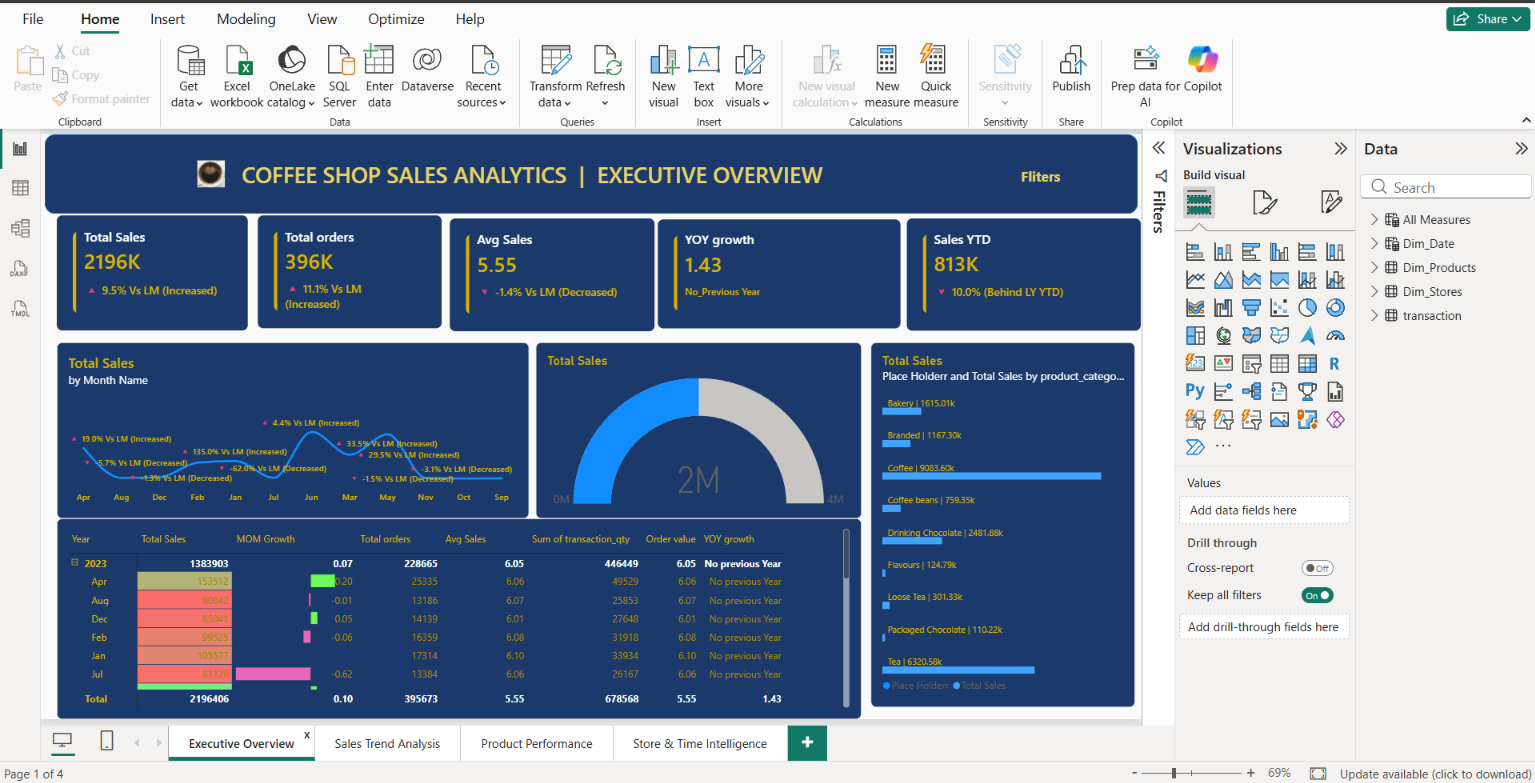

The dashboard page shown, as its layout file describes it:
{"tool":"powerbi","page":{"name":"Executive Overview","canvas":[1600,850],"ordinal":0},"visuals":[{"type":"cardVisual","fields":{"Data":["All Measures.Avg Sales"]},"box":[594.5,122.1,298,164.2],"z":0},{"type":"cardVisual","fields":{"Data":["All Measures.Sales YTD"]},"box":[1258.7,122.1,340.2,163.5],"z":1000},{"type":"shape","box":[5.8,0,1588.6,115.3],"z":2000},{"type":"textbox","box":[282.8,37,874.9,47.4],"z":3000},{"type":"actionButton","box":[1370.7,23.1,165.3,76.4],"z":4000},{"type":"cardVisual","fields":{"Data":["All Measures.Total Sales"]},"box":[23.3,117.7,277.6,167.2],"z":11000},{"type":"cardVisual","fields":{"Data":["All Measures.Total orders"]},"box":[315.4,117.7,267.4,164.2],"z":12000},{"type":"lineChart","fields":{"Category":["Dim_Date.Month Name"],"Y":["All Measures.Total Sales"]},"box":[23.3,302.3,686,255.8],"z":13000},{"type":"clusteredBarChart","title":"Total Sales","fields":{"Category":["Dim_Products.product_category"],"Y":["All Measures.Place Holderr","All Measures.Total Sales"]},"box":[1206.1,302.2,384,530],"z":14000},{"type":"pivotTable","fields":{"Rows":["Dim_Date.Date.Variation.Date Hierarchy.Year","Dim_Date.Month Name"],"Values":["All Measures.Total Sales","All Measures.MOM Growth","All Measures.Total orders","All Measures.Avg Sales","Sum(transaction.transaction_qty)","All Measures.Order value","All Measures.YOY growth"]},"box":[23.4,557.8,1169.6,292],"z":15000},{"type":"image","box":[210.3,38,73,39.4],"z":15001},{"type":"gauge","fields":{"Y":["All Measures.Total Sales"]},"box":[719.5,302.3,473.8,255.8],"z":15002},{"type":"cardVisual","fields":{"Data":["All Measures.YOY growth"]},"box":[896.8,123.5,353.2,158.4],"z":15003}]}

Visuals, with their boxes on the page's 1600x850 design canvas (x1, y1, x2, y2). These are canvas units, not pixel positions in the 1535x783 screenshot, which may show the page scaled, cropped or inside an application window:
cardVisual - All Measures.Avg Sales: (594, 122, 892, 286)
cardVisual - All Measures.Sales YTD: (1259, 122, 1599, 286)
shape: (6, 0, 1594, 115)
textbox: (283, 37, 1158, 84)
actionButton: (1371, 23, 1536, 100)
cardVisual - All Measures.Total Sales: (23, 118, 301, 285)
cardVisual - All Measures.Total orders: (315, 118, 583, 282)
lineChart - Dim_Date.Month Name x All Measures.Total Sales: (23, 302, 709, 558)
"Total Sales" clusteredBarChart: (1206, 302, 1590, 832)
pivotTable - Dim_Date.Date.Variation.Date Hierarchy.Year x Dim_Date.Month Name: (23, 558, 1193, 850)
image: (210, 38, 283, 77)
gauge - All Measures.Total Sales: (720, 302, 1193, 558)
cardVisual - All Measures.YOY growth: (897, 124, 1250, 282)
